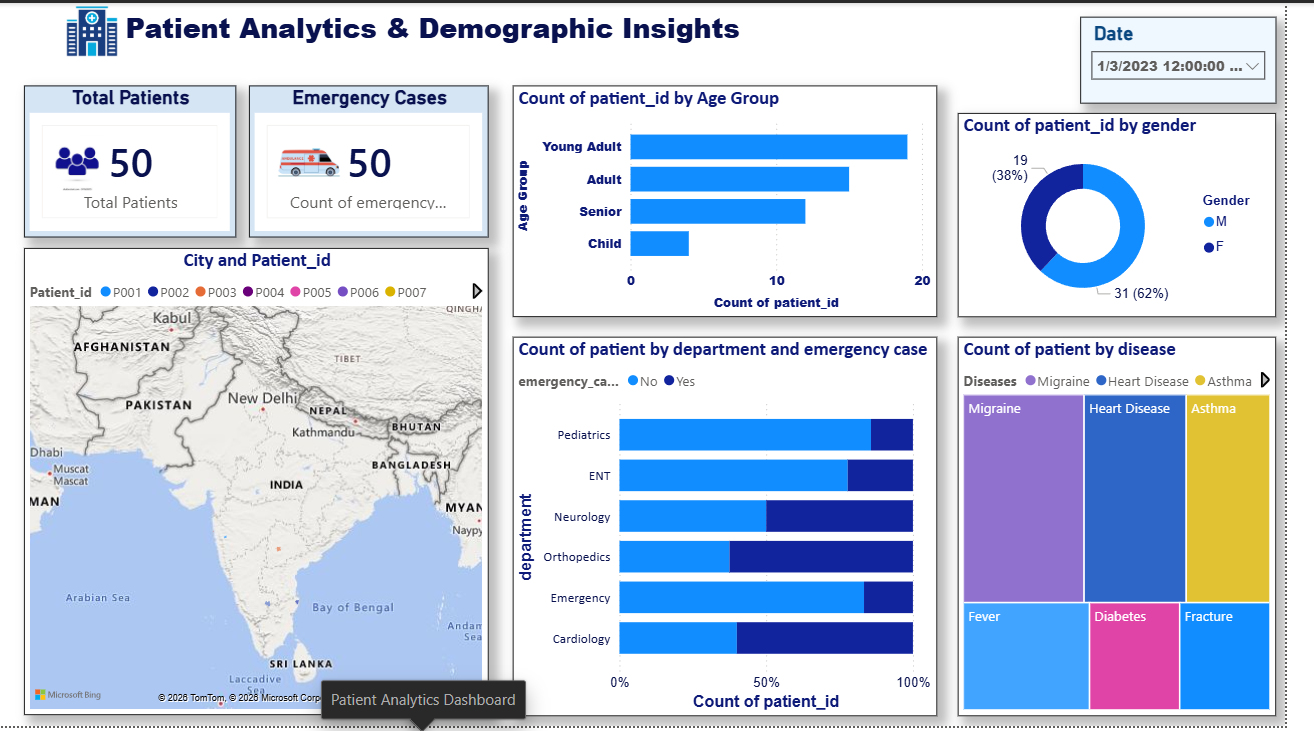

This screenshot's page, from the dashboard's own definition file:
{"tool":"powerbi","page":{"name":"Patient  Analytics Dashboard","canvas":[1280,720],"ordinal":1},"visuals":[{"type":"textbox","box":[0,0,863.1,56.3],"z":0},{"type":"slicer","fields":{"Values":["DateTable.Date"]},"box":[1075.8,13.7,194.9,86.4],"z":1000},{"type":"image","box":[60.4,0,63.1,56.3],"z":2000},{"type":"cardVisual","title":"Total Patients","fields":{"Data":["patients.Total Patients"]},"box":[24.7,82.3,211.3,150.9],"z":3000},{"type":"image","box":[50.8,131.7,53.5,54.9],"z":4000},{"type":"cardVisual","title":"Emergency  Cases","fields":{"Data":["CountNonNull(patients.emergency_case)"]},"box":[248.4,82.3,238.8,150.9],"z":5000},{"type":"image","box":[274.4,133.1,67.2,50.8],"z":6000},{"type":"clusteredBarChart","fields":{"Category":["patients.Age Group"],"Y":["CountNonNull(patients.patient_id)"]},"box":[511.8,82.3,422.6,230.5],"z":7000},{"type":"donutChart","fields":{"Category":["patients.gender"],"Y":["CountNonNull(patients.patient_id)"]},"box":[953.7,109.8,317,203.1],"z":8000},{"type":"filledMap","title":"City and Patient_id","fields":{"Category":["patients.city"],"Series":["patients.patient_id"]},"box":[24.7,244.3,462.4,465.2],"z":9000},{"type":"hundredPercentStackedBarChart","title":"Count of patient by department and emergency case","fields":{"Category":["patients.department"],"Y":["CountNonNull(patients.patient_id)"],"Series":["patients.emergency_case"]},"box":[511.8,332.1,422.6,377.4],"z":10000},{"type":"treemap","title":"Count of patient by disease","fields":{"Group":["patients.disease"],"Values":["CountNonNull(patients.patient_id)"]},"box":[953.7,332.1,317,377.4],"z":11000}]}

Visuals, with their boxes in screenshot pixels (x1, y1, x2, y2), scaled from the page's 1280x720 canvas onto the 1314x731 screenshot:
textbox: [left=0, top=0, right=886, bottom=57]
slicer - DateTable.Date: [left=1104, top=14, right=1304, bottom=102]
image: [left=62, top=0, right=127, bottom=57]
"Total Patients" cardVisual: [left=25, top=84, right=242, bottom=237]
image: [left=52, top=134, right=107, bottom=189]
"Emergency  Cases" cardVisual: [left=255, top=84, right=500, bottom=237]
image: [left=282, top=135, right=351, bottom=187]
clusteredBarChart - patients.Age Group x CountNonNull(patients.patient_id): [left=525, top=84, right=959, bottom=318]
donutChart - patients.gender x CountNonNull(patients.patient_id): [left=979, top=111, right=1304, bottom=318]
"City and Patient_id" filledMap: [left=25, top=248, right=500, bottom=720]
"Count of patient by department and emergency case" hundredPercentStackedBarChart: [left=525, top=337, right=959, bottom=720]
"Count of patient by disease" treemap: [left=979, top=337, right=1304, bottom=720]
